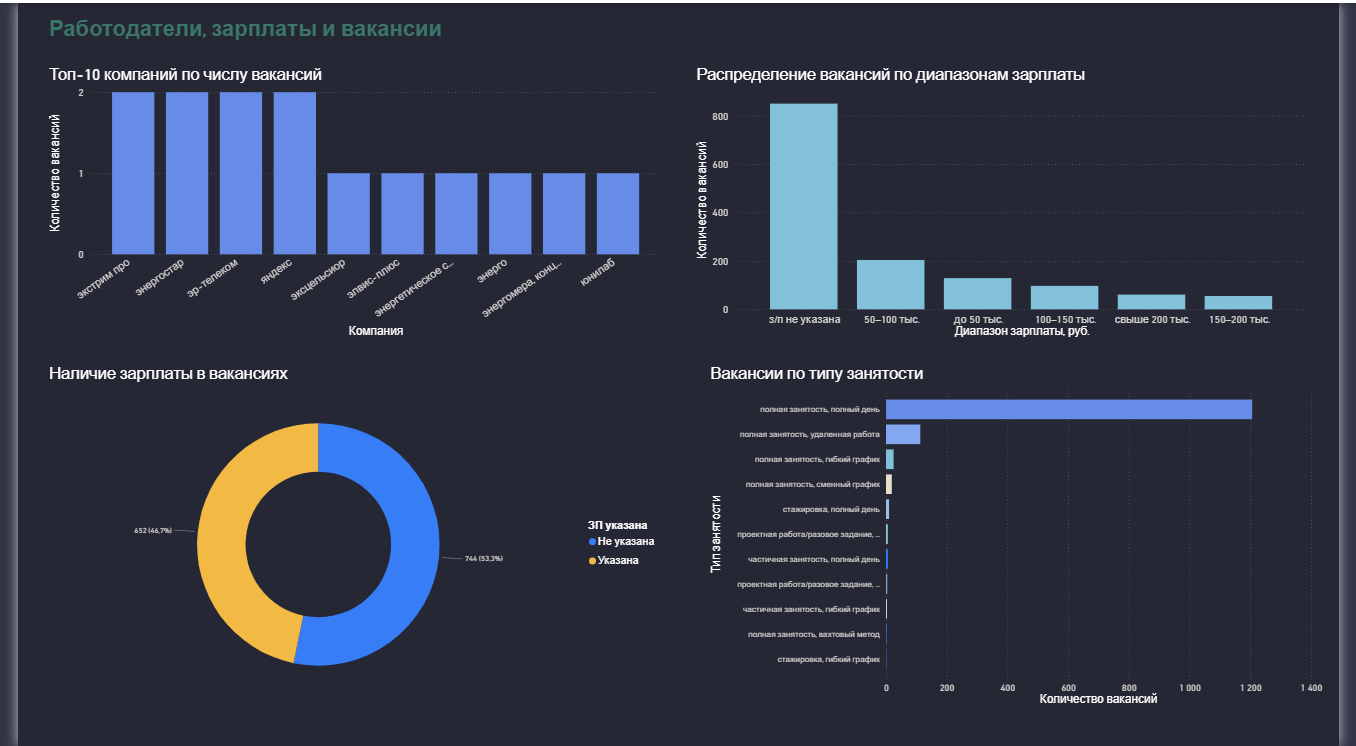

Layout of this report page (visuals, bound fields, positions):
{"tool":"powerbi","page":{"name":"Работодатели, зарплаты и вакансии","canvas":[1920,1080],"ordinal":1},"visuals":[{"type":"clusteredColumnChart","title":"Топ-10 компаний по числу вакансий","fields":{"Category":["Все_вакансии.компания"],"Y":["CountNonNull(Все_вакансии.компания)"]},"box":[40,90,900,400],"z":0},{"type":"columnChart","title":"Распределение вакансий по диапазонам зарплаты","fields":{"Category":["Все_вакансии.ДиапазонЗП"],"Y":["CountNonNull(Все_вакансии.ДиапазонЗП)"]},"box":[980,90,900,400],"z":1000},{"type":"textbox","box":[40,15.1,900.2,60],"z":2000},{"type":"donutChart","title":"Наличие зарплаты в вакансиях","fields":{"Category":["Все_вакансии.ЗП_указана"],"Y":["CountNonNull(Все_вакансии.название вакансии)"]},"box":[40,525,900,500],"z":3000},{"type":"clusteredBarChart","title":"Вакансии по типу занятости","fields":{"Category":["Все_вакансии.тип занятости"],"Y":["CountNonNull(Все_вакансии.название вакансии)"]},"box":[1000,525,900,500],"z":4000}]}

Visuals, with their boxes in screenshot pixels (x1, y1, x2, y2), scaled from the page's 1920x1080 canvas onto the 1356x746 screenshot:
"Топ-10 компаний по числу вакансий" clusteredColumnChart: 28,62,664,338
"Распределение вакансий по диапазонам зарплаты" columnChart: 692,62,1328,338
textbox: 28,10,664,52
"Наличие зарплаты в вакансиях" donutChart: 28,363,664,708
"Вакансии по типу занятости" clusteredBarChart: 706,363,1342,708
